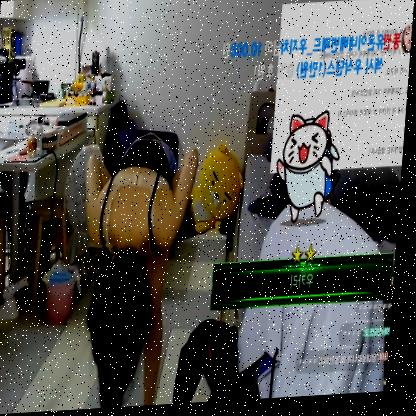donation: (207, 28, 413, 313)
streamer: (74, 128, 203, 411)
